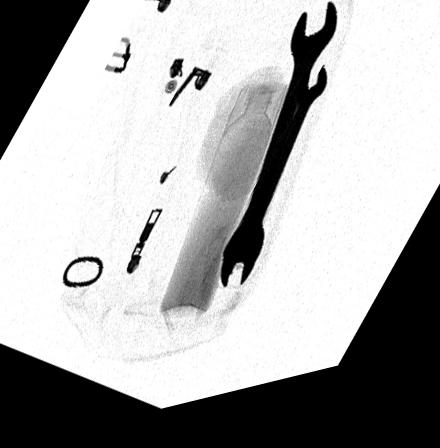Wrench: (219, 17, 336, 301), (219, 82, 327, 279)
